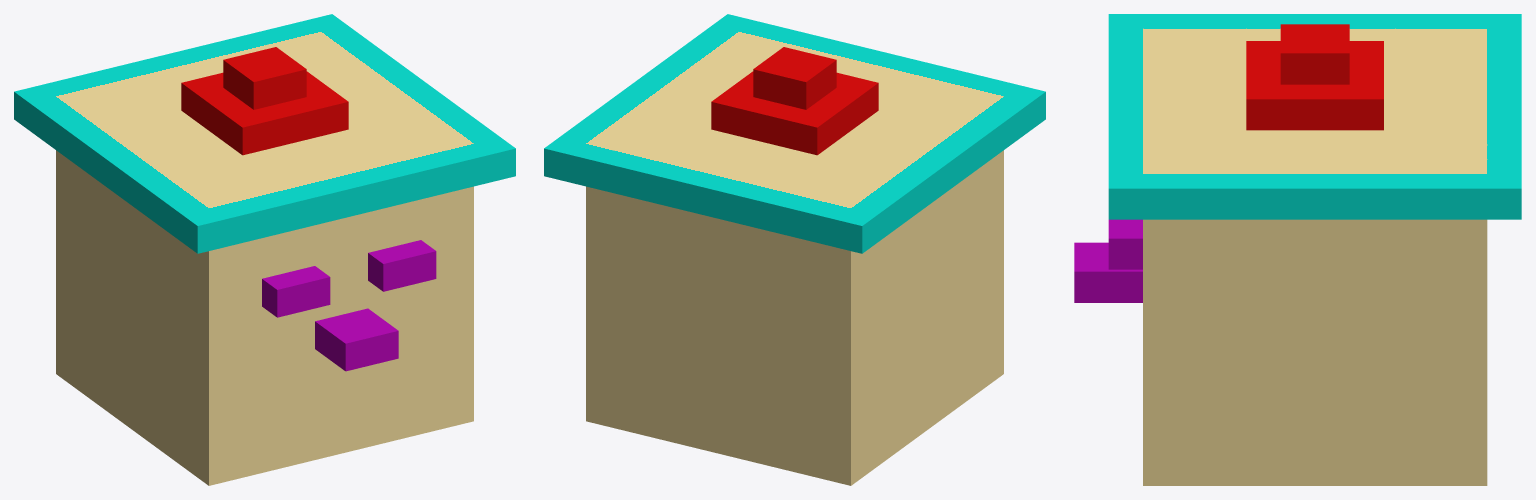
File: Masty.fbx
The picture shows the model from 3 angles, left to right: view 1: azimuth 30°, elevation 25°; view 2: azimuth 150°, elevation 25°; view 3: azimuth 270°, elevation 25°; orthographic projection. The views are drawn at different scales.
Visible parts, largest first — view 1: Masty; view 2: Masty; view 3: Masty.
Part boxes in pixels (x1,y1,x2,y2): Masty: (14, 14, 515, 485); Masty: (544, 14, 1045, 485); Masty: (1074, 14, 1521, 485).
Bounding box in the file's own units: 12 × 12 × 13.
